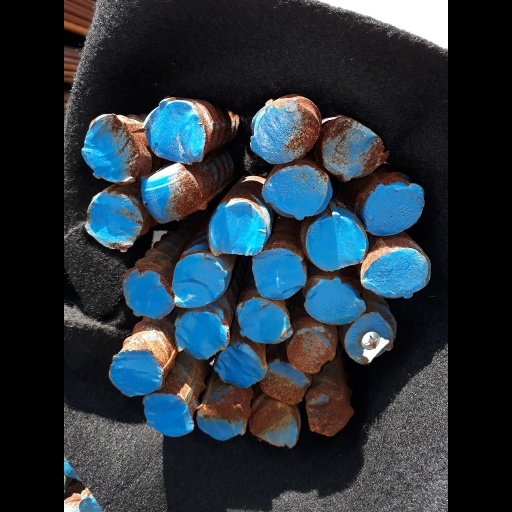dipstick: (249, 102, 320, 165), (320, 118, 389, 181), (144, 99, 205, 165), (79, 113, 138, 181), (263, 165, 332, 220), (140, 162, 201, 222), (85, 193, 143, 254), (361, 248, 428, 297), (172, 252, 227, 309), (364, 182, 421, 236), (343, 311, 394, 366), (305, 281, 365, 325), (236, 297, 292, 344), (253, 249, 304, 300), (109, 347, 161, 397), (175, 311, 229, 359), (304, 385, 353, 436), (123, 271, 175, 319), (143, 391, 194, 437), (214, 344, 266, 388), (285, 330, 335, 374), (249, 405, 299, 449), (259, 361, 309, 404), (195, 404, 245, 441)
